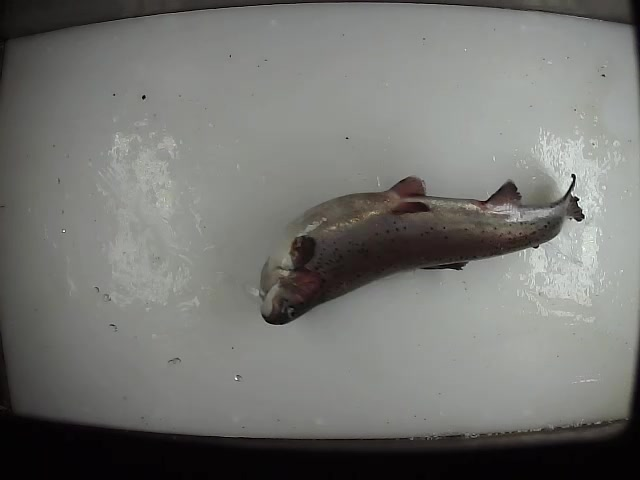fish: (256, 171, 590, 327)
